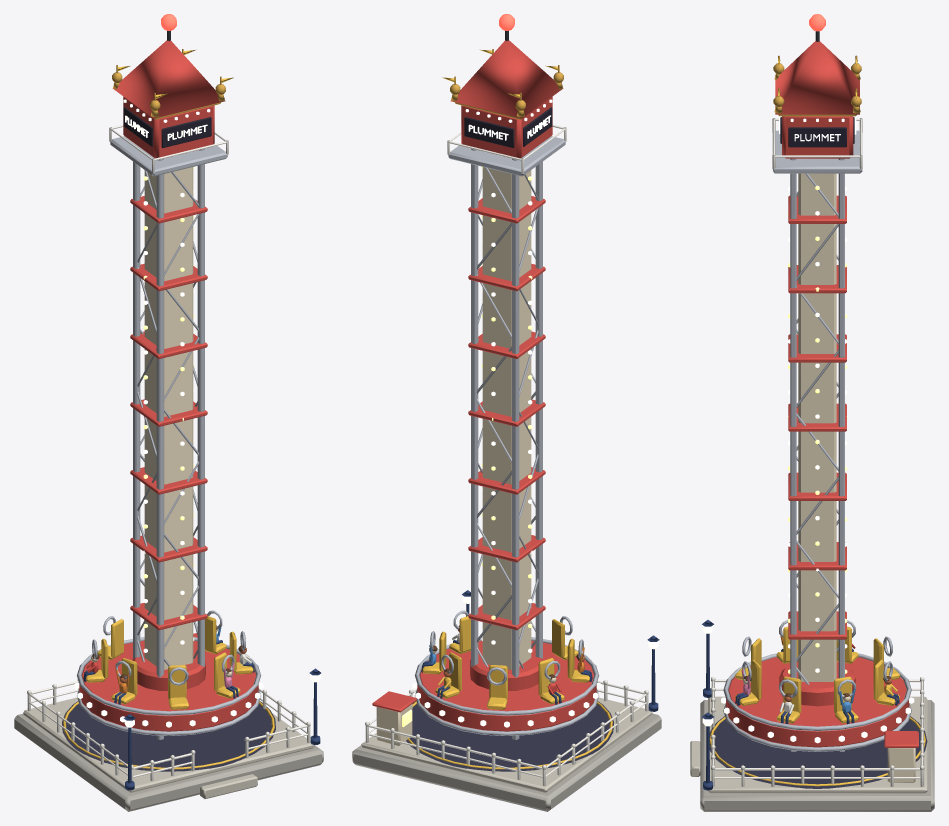
The model's file is droptower.glb.
3 renders of one model, left to right at view 1: azimuth 30°, elevation 25°; view 2: azimuth 150°, elevation 25°; view 3: azimuth 270°, elevation 25°, orthographic. The views are drawn at different scales.
Parts seen in each view (by area): view 1: base_pw_cream_paint, base_pw_steel_paint, base_pw_accent_paint, carriage_pw_accent_paint, base_pw_slate_paint, base_pw_concrete, base_pw_stone, carriage_pw_yellow_paint, base_pw_white_paint, carriage_pw_steel_chrome, base_pw_dark_paint, base_pw_navy_paint (+3 smaller); view 2: base_pw_cream_paint, base_pw_steel_paint, base_pw_accent_paint, carriage_pw_accent_paint, base_pw_slate_paint, base_pw_concrete, carriage_pw_yellow_paint, base_pw_stone, base_pw_white_paint, carriage_pw_steel_chrome, base_pw_dark_paint, base_pw_lamp_glow (+2 smaller); view 3: base_pw_cream_paint, base_pw_accent_paint, base_pw_steel_paint, carriage_pw_accent_paint, base_pw_slate_paint, base_pw_concrete, base_pw_stone, carriage_pw_yellow_paint, carriage_pw_steel_chrome, base_pw_white_paint, base_pw_dark_paint, base_pw_gold_brass (+4 smaller).
Boxes of the visible parts, x1,y1,x2,y2 form: base_pw_cream_paint: (144, 167, 193, 669); base_pw_steel_paint: (110, 136, 227, 739); base_pw_accent_paint: (112, 40, 225, 637); carriage_pw_accent_paint: (79, 640, 258, 731); base_pw_slate_paint: (62, 701, 275, 771); base_pw_concrete: (14, 713, 323, 811); base_pw_stone: (23, 697, 314, 798); carriage_pw_yellow_paint: (86, 616, 253, 709); base_pw_white_paint: (27, 125, 310, 780); carriage_pw_steel_chrome: (76, 610, 261, 735); base_pw_dark_paint: (123, 107, 211, 147); base_pw_navy_paint: (123, 668, 320, 790); base_pw_cream_paint: (376, 167, 531, 745); base_pw_steel_paint: (448, 136, 565, 739); base_pw_accent_paint: (372, 40, 563, 712); carriage_pw_accent_paint: (417, 640, 596, 731); base_pw_slate_paint: (406, 701, 613, 771); base_pw_concrete: (352, 713, 661, 811); carriage_pw_yellow_paint: (422, 616, 589, 709); base_pw_stone: (361, 697, 652, 792); base_pw_white_paint: (365, 125, 648, 785); carriage_pw_steel_chrome: (414, 610, 599, 735); base_pw_dark_paint: (464, 107, 552, 147); base_pw_lamp_glow: (462, 99, 658, 652); base_pw_cream_paint: (798, 173, 915, 782); base_pw_accent_paint: (775, 41, 918, 747); base_pw_steel_paint: (773, 130, 862, 751); carriage_pw_accent_paint: (726, 657, 909, 747); base_pw_slate_paint: (709, 716, 927, 788); base_pw_concrete: (700, 700, 934, 811); base_pw_stone: (690, 696, 927, 793); carriage_pw_yellow_paint: (735, 626, 899, 723); carriage_pw_steel_chrome: (723, 620, 911, 751); base_pw_white_paint: (711, 118, 924, 786); base_pw_dark_paint: (780, 117, 854, 147); base_pw_gold_brass: (773, 55, 861, 116).
Bounding box in the file's own units: 1.84 × 6.49 × 1.92.
